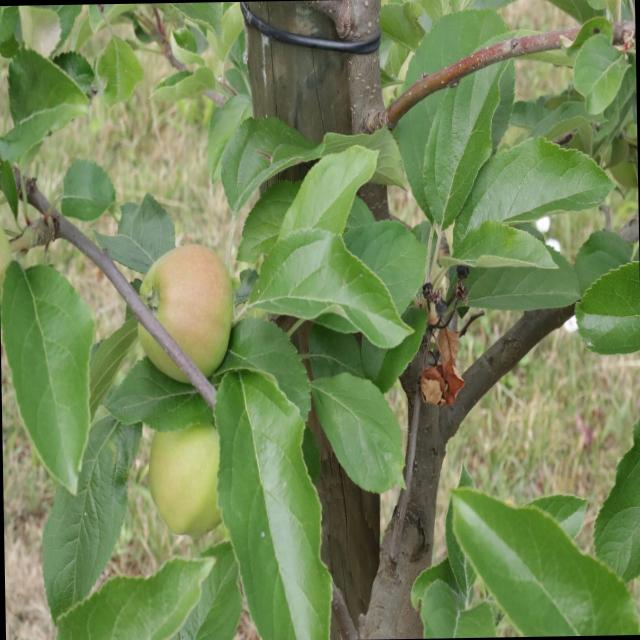-FireBlight-: (411, 300, 467, 403)
